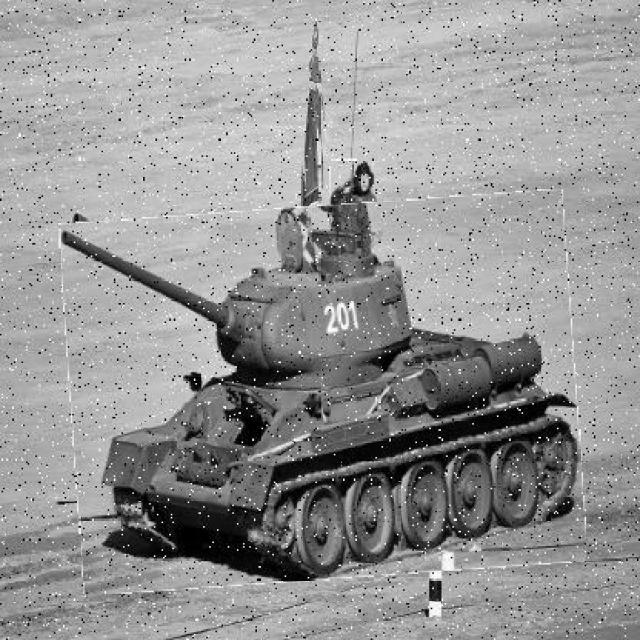Person: (330, 161, 384, 261)
Tank: (66, 198, 583, 589)
